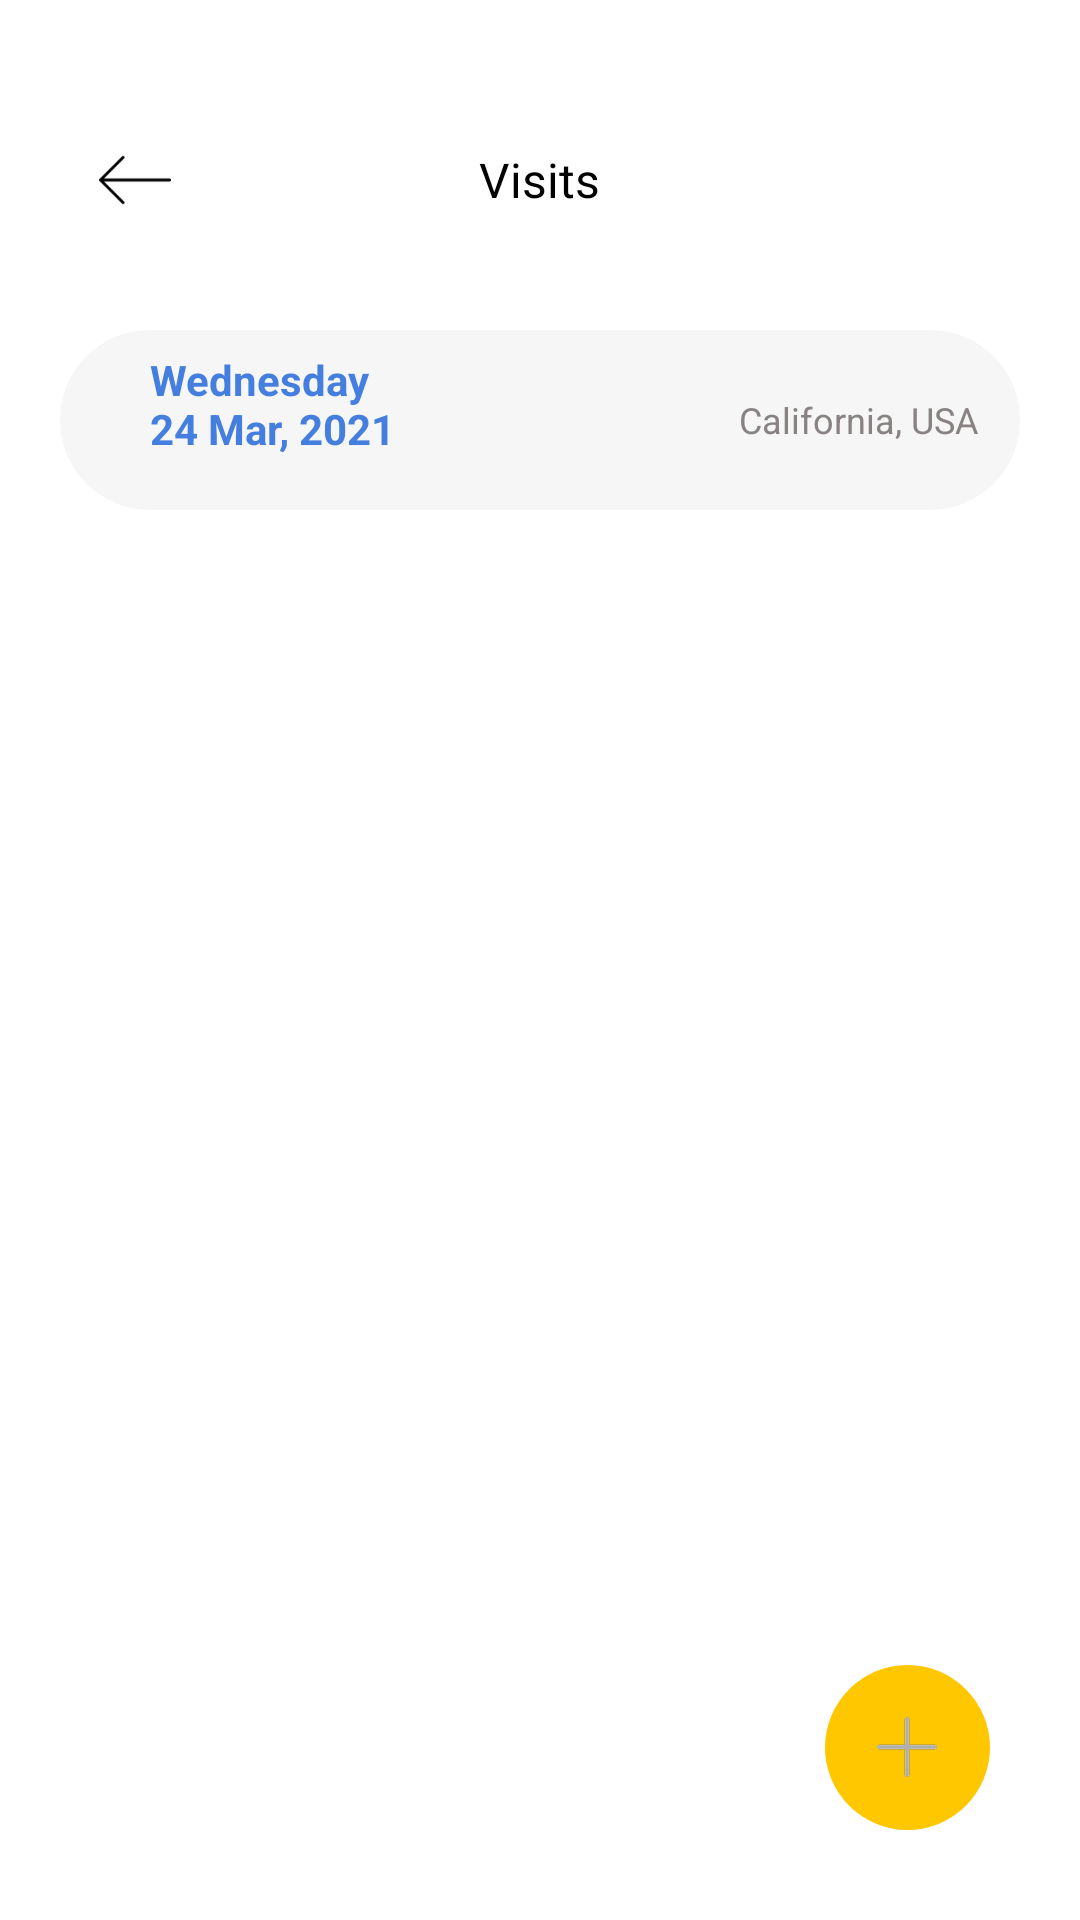

Screen size 1080w x 1920h. Icon name, then its center in pixels as [x,y]:
add: [907,1747]
backarrow: [135,180]
